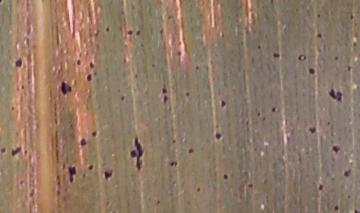tarspot: (128, 134, 145, 172), (325, 86, 345, 103), (58, 78, 73, 96), (66, 165, 78, 184), (101, 167, 115, 181), (10, 144, 22, 157), (341, 166, 353, 179), (330, 143, 342, 155), (77, 136, 88, 148), (13, 57, 24, 68), (295, 53, 308, 62), (84, 72, 94, 83), (213, 130, 223, 141), (158, 83, 168, 94), (306, 66, 317, 76), (316, 182, 326, 192), (271, 51, 282, 60), (87, 60, 96, 70), (161, 94, 170, 104), (219, 98, 227, 109), (89, 129, 98, 138), (308, 126, 317, 135), (314, 30, 323, 39), (14, 84, 25, 91), (87, 162, 95, 171), (221, 172, 229, 181), (158, 27, 166, 36), (246, 182, 255, 190), (332, 203, 341, 211), (332, 54, 340, 63), (168, 160, 178, 167), (1, 145, 7, 156), (126, 28, 134, 36), (187, 147, 195, 155), (195, 186, 203, 194), (131, 71, 139, 79), (9, 104, 16, 113), (170, 136, 177, 145), (119, 94, 126, 102), (75, 58, 82, 66), (150, 61, 157, 69), (270, 106, 278, 113), (325, 120, 333, 127), (351, 40, 358, 48), (345, 64, 352, 72), (135, 27, 141, 36), (184, 90, 191, 97), (176, 49, 183, 56), (348, 13, 355, 20), (155, 197, 161, 205), (254, 43, 262, 49), (80, 172, 87, 178), (104, 26, 110, 33), (255, 111, 262, 117), (194, 64, 200, 70), (353, 208, 360, 213), (316, 13, 321, 18), (347, 194, 351, 199)
